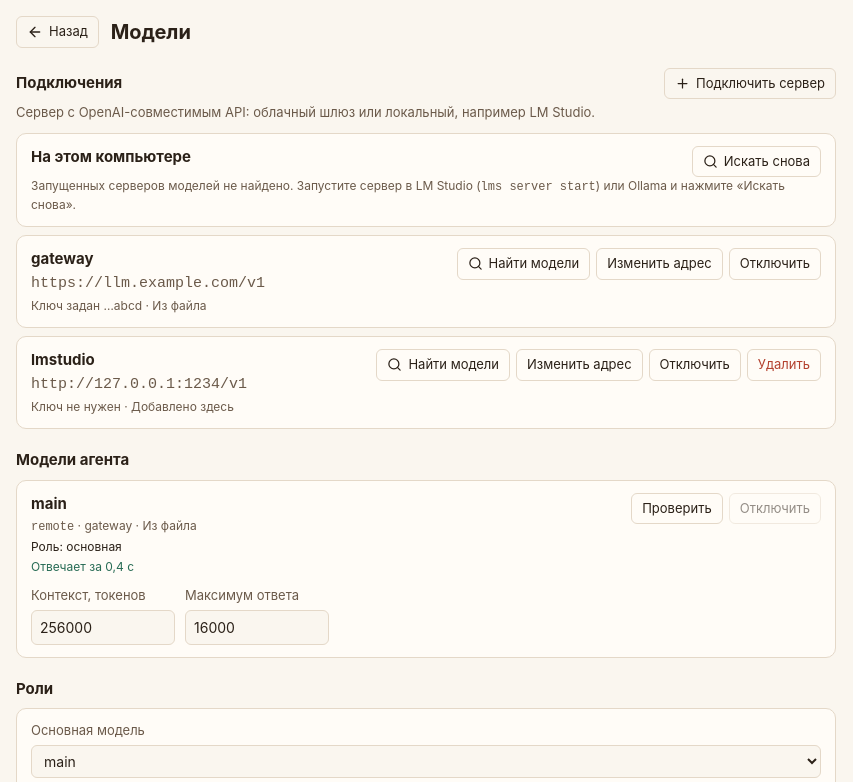
Test case: SettingsModelsView › explains a server that does not answer
What coordinates should you click on to do the following:
click the button with test id "provider-discover" next to "http://127.0.0.1:1234/v1"
I would click on:
 (443, 365)
Its box is [376,349,510,380].
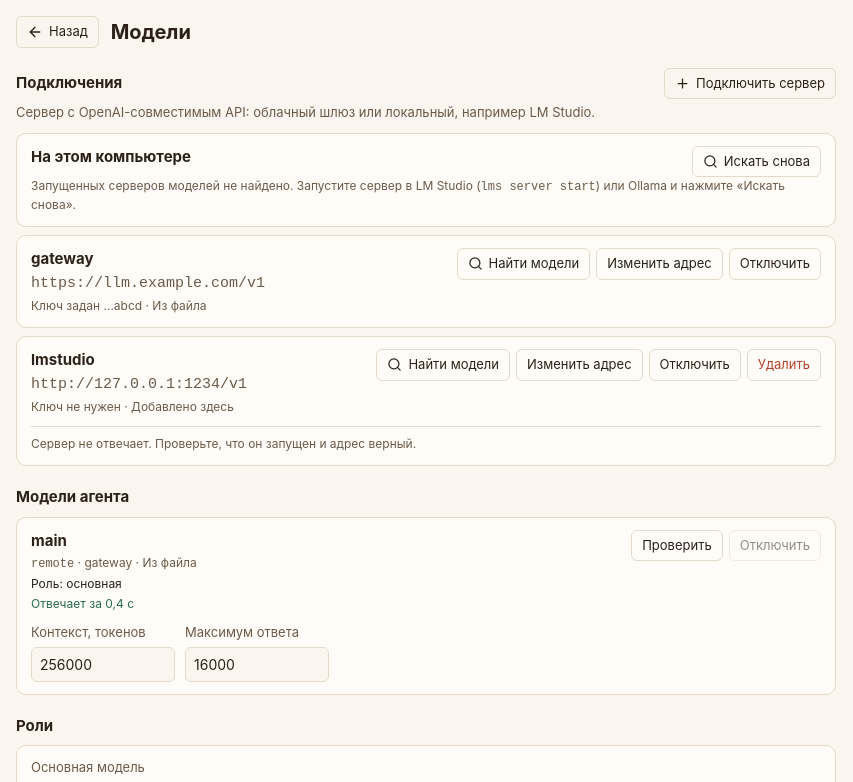
expect the element that starts with "lmstudio" shows "Сервер не отвечает": met, box [31,436,416,451]
